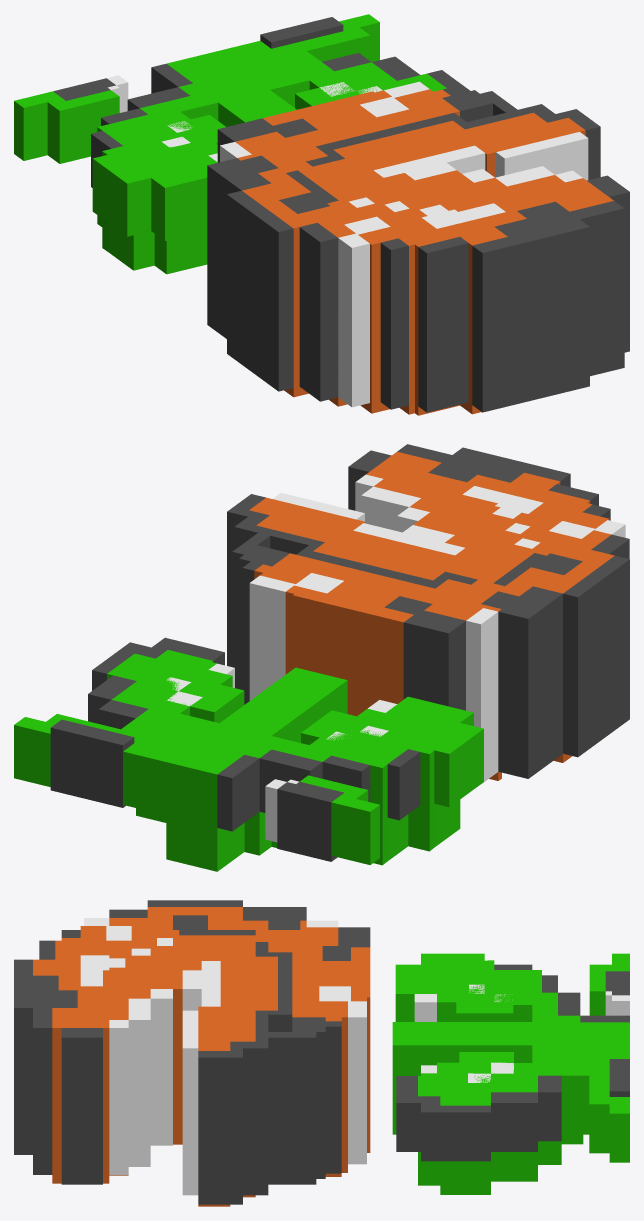
The model's file is Flower.fbx.
3 views of the same model, one above another, from view 1: azimuth 30°, elevation 25°; view 2: azimuth 150°, elevation 25°; view 3: azimuth 270°, elevation 25° (orthographic). The views are drawn at different scales.
Visible parts, largest first — view 1: Corps_62, Corps_41, Corps_63, Corps_53, Corps_58, Corps_38, Corps_47, Corps_42, Corps_30, Corps_55, Corps_50, Corps_54 (+15 smaller); view 2: Corps_62, Corps_63, Corps_54, Corps_53, Corps_55, Corps_33, Corps_59, Corps_64, Corps_56, Corps_45, Corps_38, Corps_65 (+18 smaller); view 3: Corps_62, Corps_63, Corps_55, Corps_41, Corps_46, Corps_36, Corps_33, Corps_57, Corps_56, Corps_60, Corps_49, Corps_51 (+15 smaller).
Boxes of the visible parts, x1=… form: Corps_62: x1=235, y1=89, x2=613, y2=415; Corps_41: x1=472, y1=201, x2=624, y2=412; Corps_63: x1=97, y1=51, x2=446, y2=274; Corps_53: x1=227, y1=190, x2=293, y2=391; Corps_58: x1=418, y1=237, x2=468, y2=412; Corps_38: x1=92, y1=155, x2=207, y2=240; Corps_47: x1=299, y1=222, x2=338, y2=401; Corps_42: x1=338, y1=216, x2=390, y2=407; Corps_30: x1=14, y1=90, x2=119, y2=163; Corps_55: x1=306, y1=86, x2=600, y2=179; Corps_50: x1=380, y1=238, x2=408, y2=409; Corps_54: x1=207, y1=155, x2=278, y2=338; Corps_62: x1=249, y1=452, x2=614, y2=780; Corps_63: x1=107, y1=650, x2=460, y2=871; Corps_54: x1=481, y1=586, x2=562, y2=778; Corps_53: x1=563, y1=555, x2=629, y2=757; Corps_55: x1=227, y1=494, x2=477, y2=704; Corps_33: x1=14, y1=714, x2=191, y2=815; Corps_59: x1=384, y1=596, x2=465, y2=710; Corps_64: x1=50, y1=719, x2=134, y2=807; Corps_56: x1=249, y1=573, x2=343, y2=700; Corps_45: x1=466, y1=608, x2=498, y2=783; Corps_38: x1=398, y1=696, x2=483, y2=807; Corps_65: x1=277, y1=781, x2=343, y2=861; Corps_62: x1=33, y1=907, x2=370, y2=1206; Corps_63: x1=392, y1=960, x2=629, y2=1194; Corps_55: x1=198, y1=942, x2=341, y2=1204; Corps_41: x1=14, y1=959, x2=77, y2=1174; Corps_46: x1=61, y1=1028, x2=102, y2=1184; Corps_36: x1=396, y1=1076, x2=490, y2=1161; Corps_33: x1=561, y1=1045, x2=629, y2=1162; Corps_57: x1=128, y1=998, x2=150, y2=1166; Corps_56: x1=319, y1=986, x2=366, y2=1164; Corps_60: x1=150, y1=989, x2=172, y2=1145; Corps_49: x1=182, y1=1010, x2=198, y2=1195; Corps_51: x1=109, y1=1020, x2=128, y2=1174.
Bounding box in the file's own units: 11.88 × 5.4 × 19.37.
